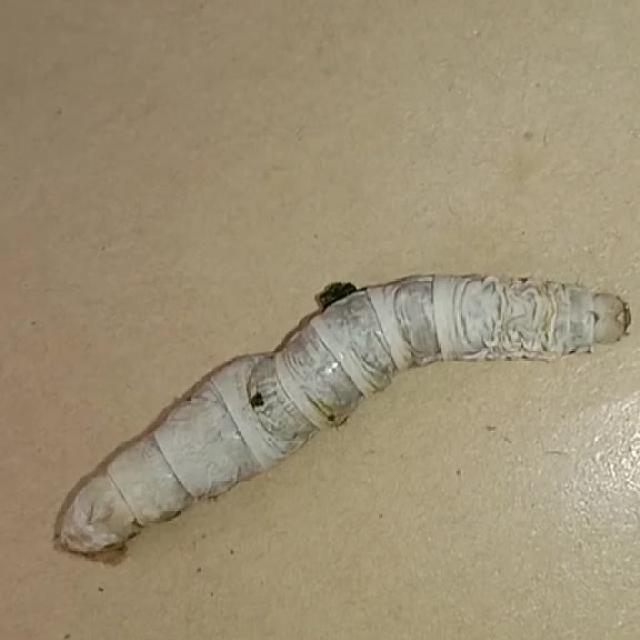Grasserie: (41, 246, 633, 562)
